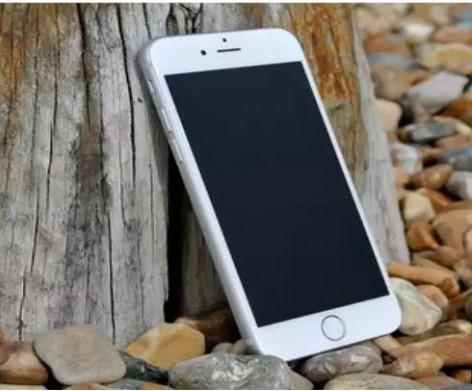Smart Phone: (135, 28, 404, 364)
